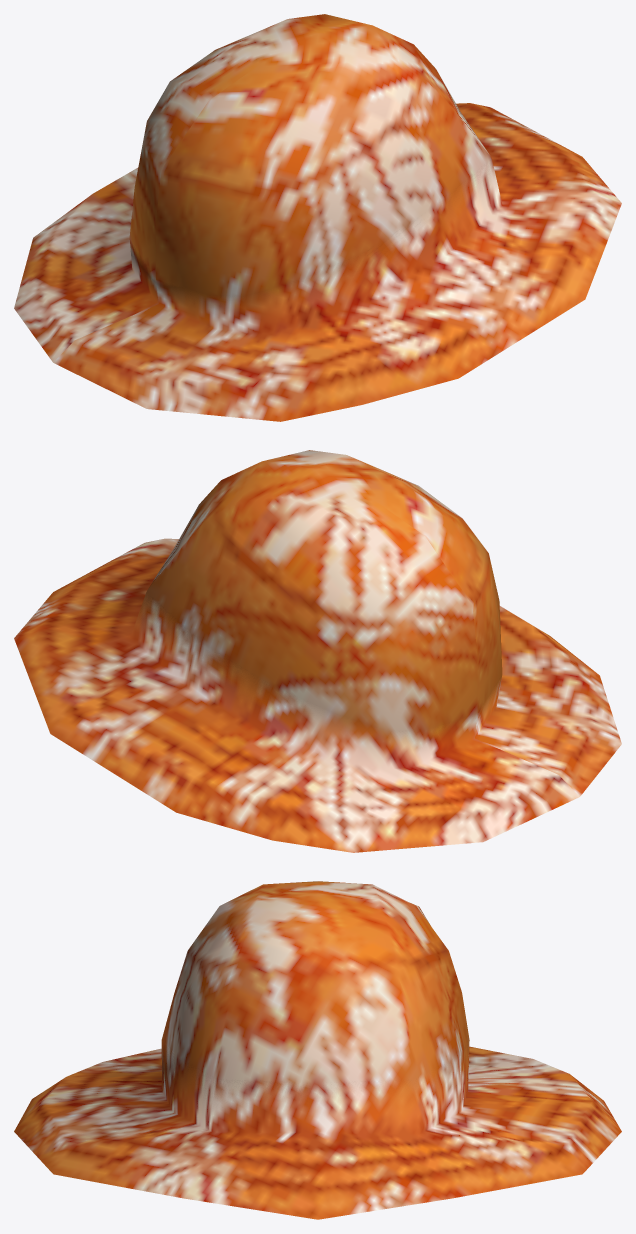
Rendered from hat_0450012.FBX.
3 renders of one model, top to bottom at view 1: azimuth 30°, elevation 25°; view 2: azimuth 150°, elevation 25°; view 3: azimuth 270°, elevation 25°, orthographic. The views are drawn at different scales.
Parts seen in each view (by area): view 1: hat_0450012; view 2: hat_0450012; view 3: hat_0450012.
Part boxes in pixels (<box>): hat_0450012: <box>14,14,621,421</box>; hat_0450012: <box>14,450,621,852</box>; hat_0450012: <box>14,881,621,1219</box>.
Bounding box in the file's own units: 41.57 × 20.02 × 40.29.
